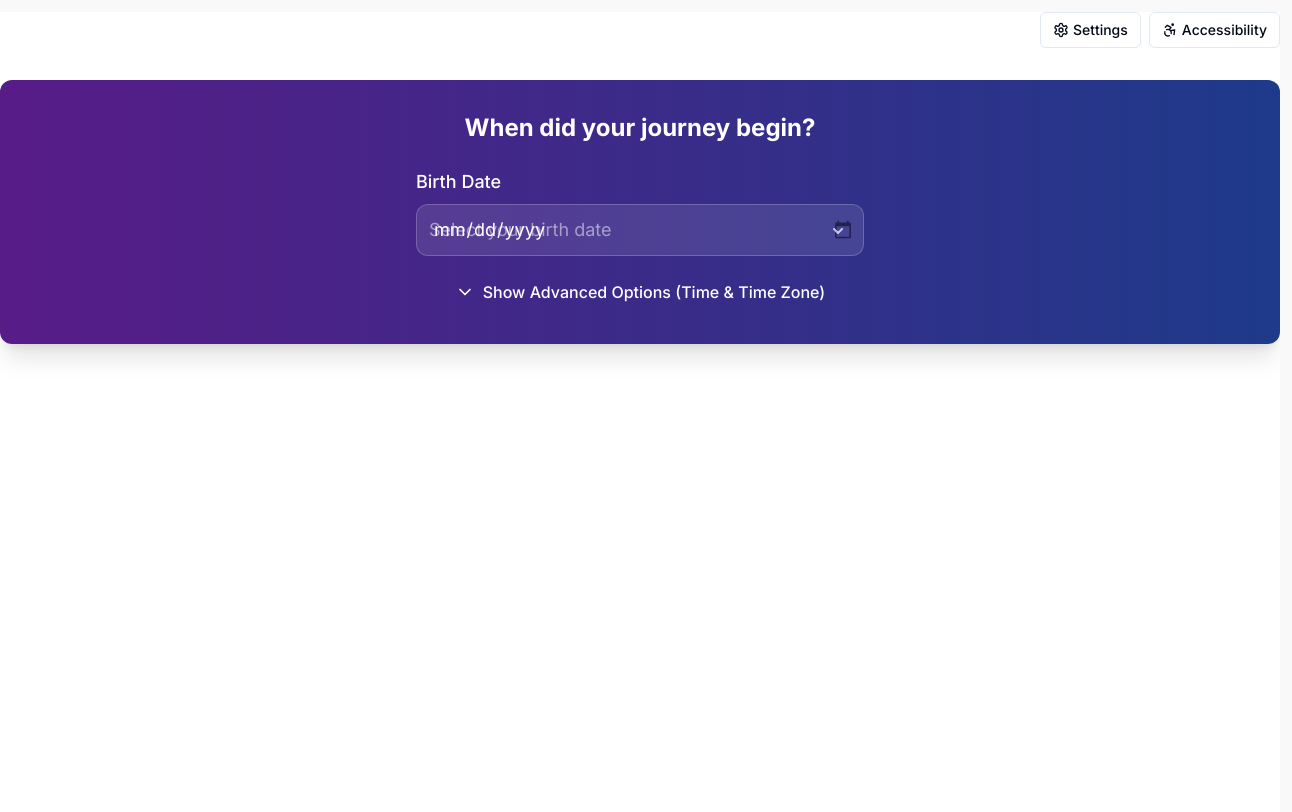
LifeCalculator › displays metrics after selecting a date
Type "2000-01-01" into the date field labelled "Birth Date". click: (640, 230)
box: 416,204 -> 864,256
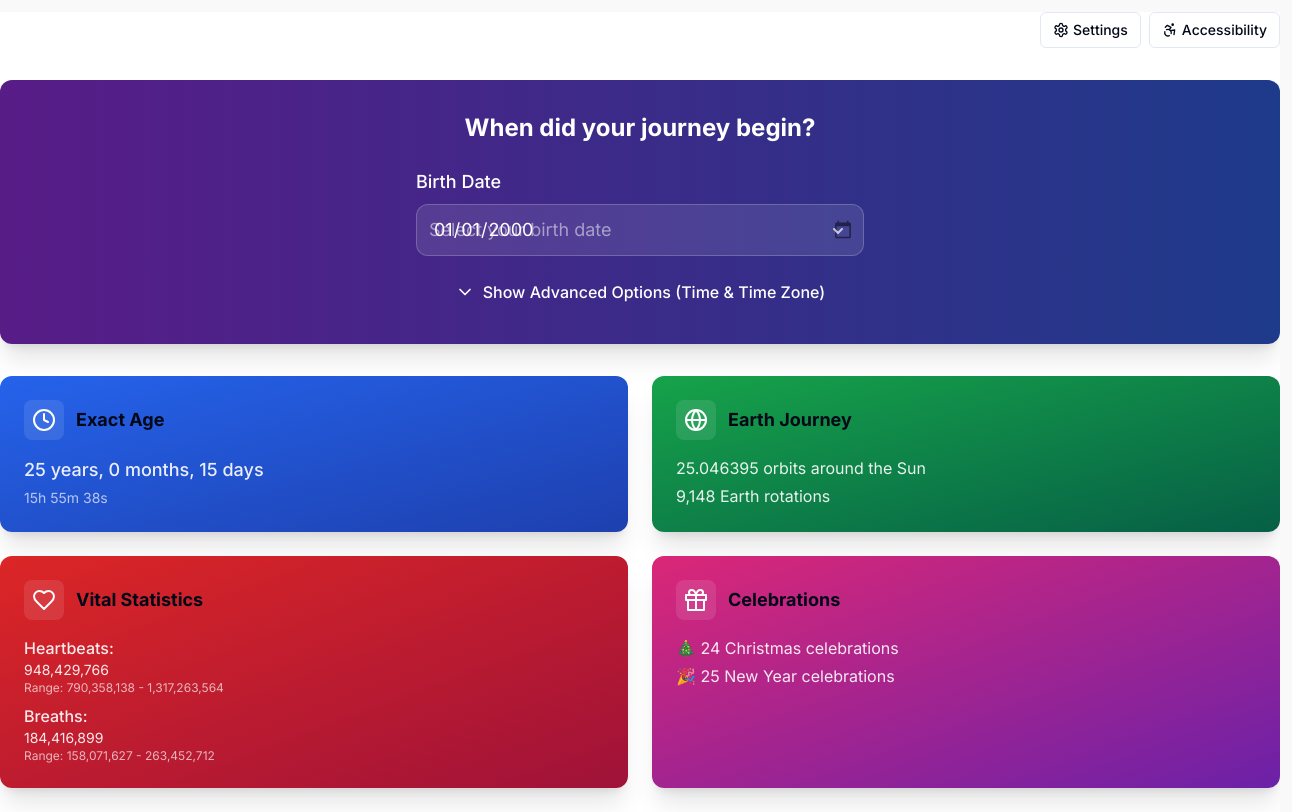
Expected: the heading "Exact Age" is shown, 76,406 -> 164,434
Expected: the heading "Celebrations" is shown, 728,586 -> 840,614
Expected: the heading "Earth Journey" is shown, 728,406 -> 852,434
